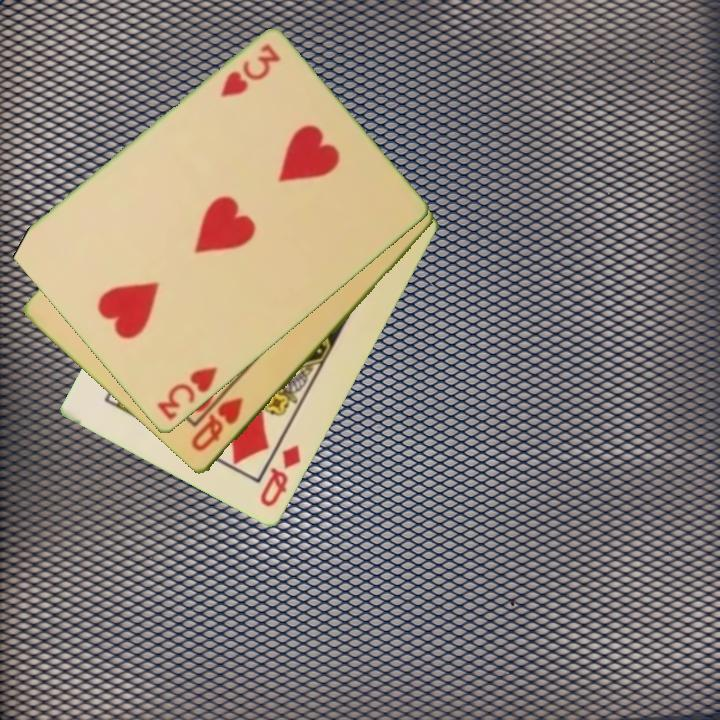3h: (153, 363, 221, 424), (216, 40, 284, 101)
Qd: (256, 442, 304, 511)
Qh: (187, 394, 246, 455)
